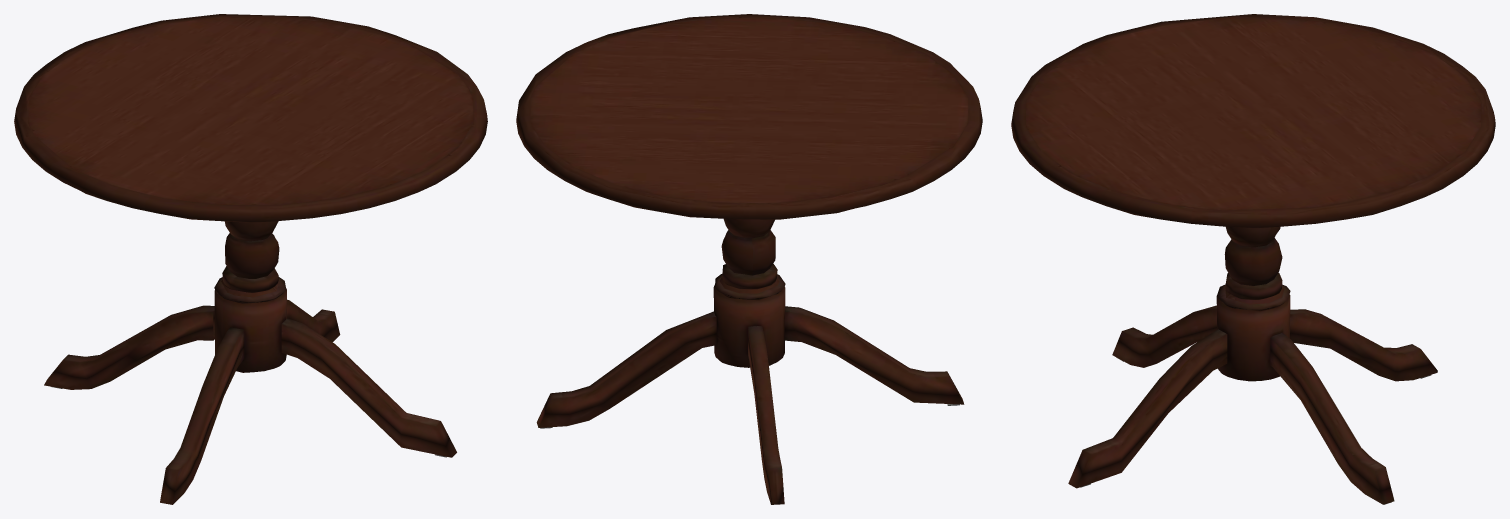
File: round_wooden_table_01.glb
3 renders of one model, left to right at view 1: azimuth 30°, elevation 25°; view 2: azimuth 150°, elevation 25°; view 3: azimuth 270°, elevation 25°, orthographic. The views are drawn at different scales.
Parts seen in each view (by area): view 1: round_wooden_table_01; view 2: round_wooden_table_01; view 3: round_wooden_table_01.
Boxes of the visible parts, bbox=[...] form: round_wooden_table_01: bbox=[14, 14, 487, 504]; round_wooden_table_01: bbox=[516, 14, 982, 504]; round_wooden_table_01: bbox=[1011, 14, 1495, 504].
Bounding box in the file's own units: 1.4 × 1 × 1.4.
1 material, 1 textured.
